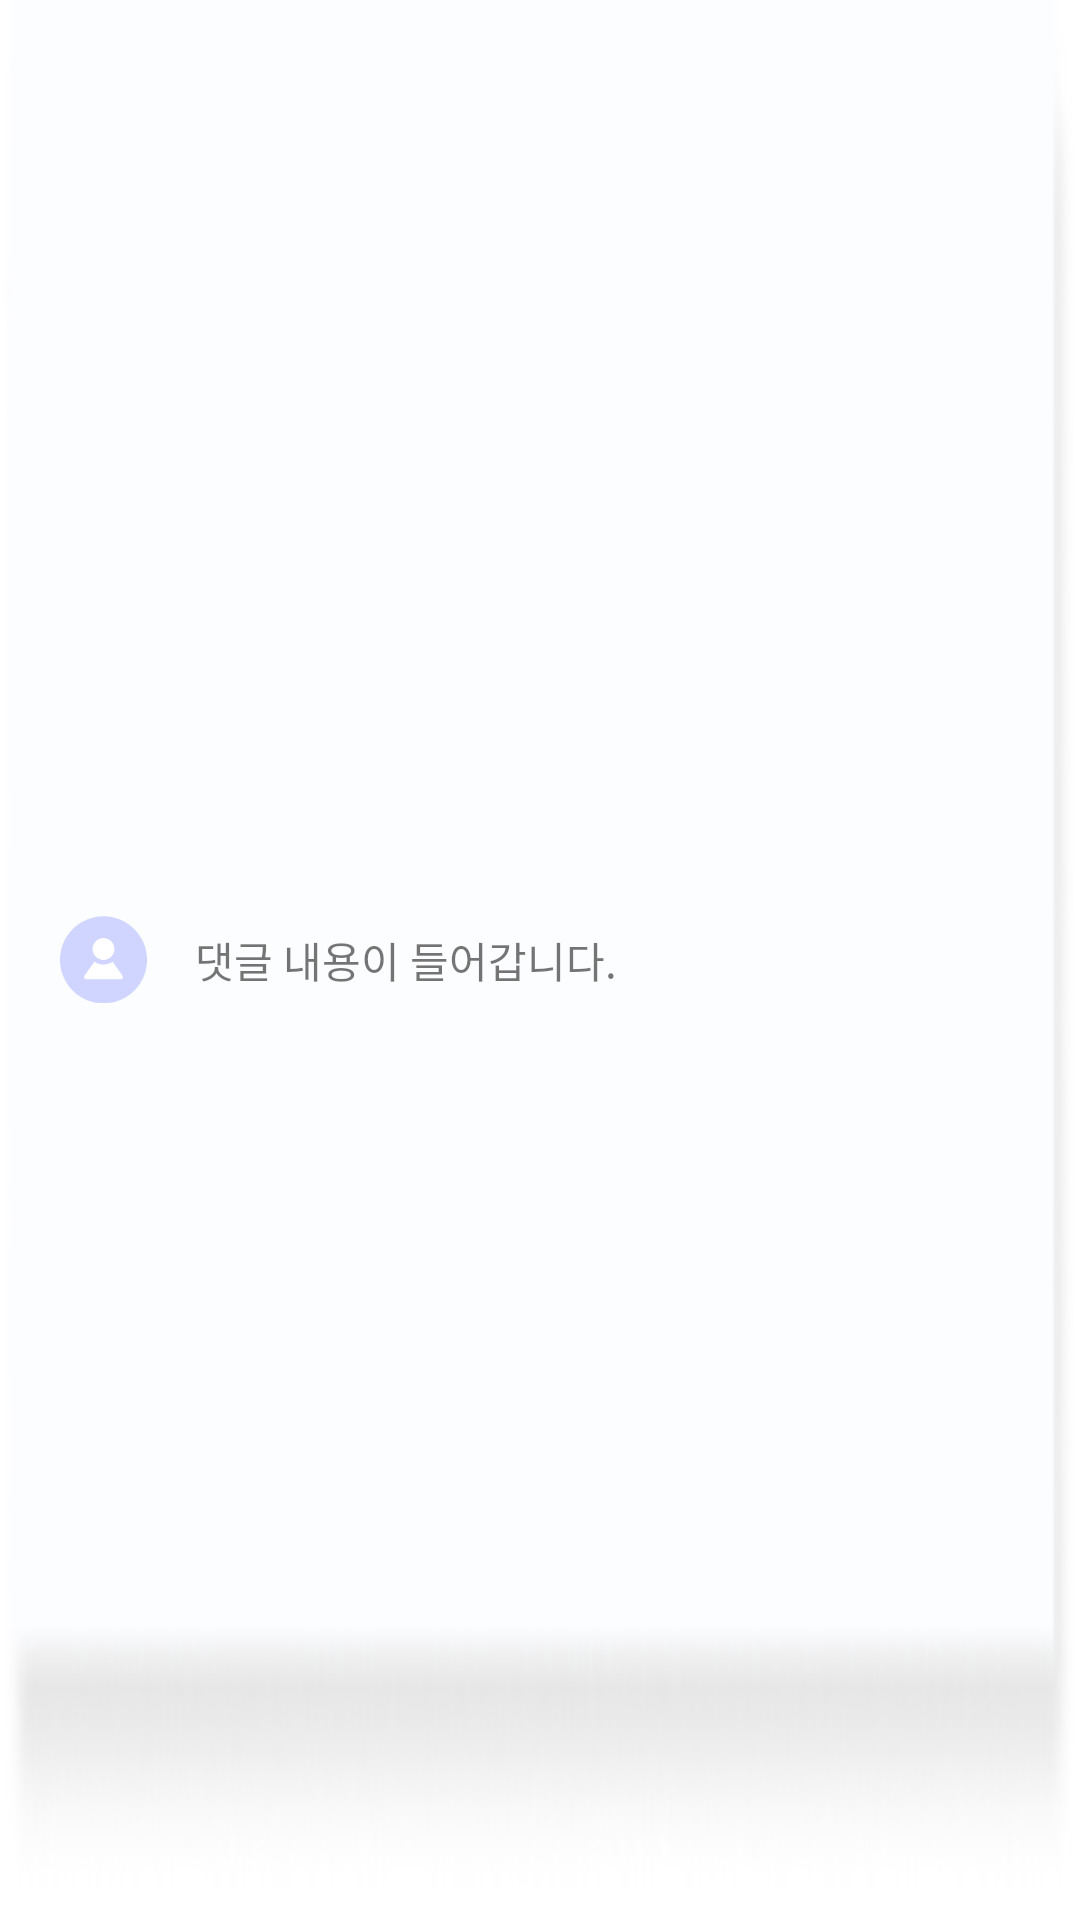

Where to tap for icons on this 1080x1920 app screen, as (x,y):
user empty: (103,959)
